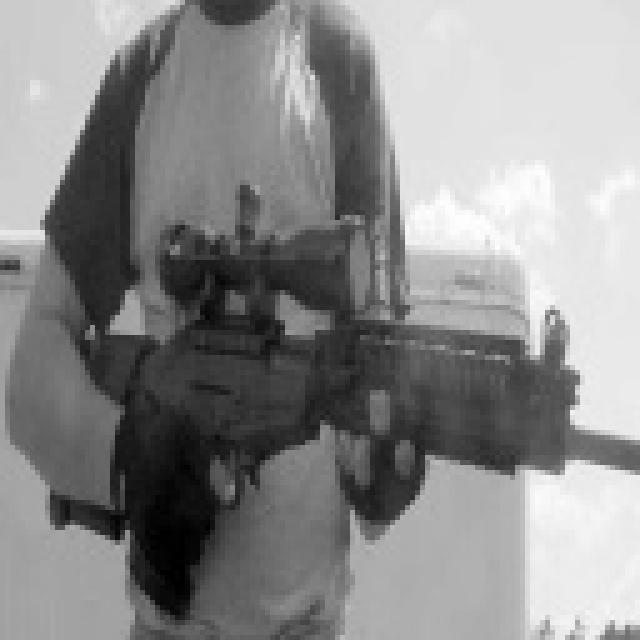Rifle: (15, 155, 640, 635)
